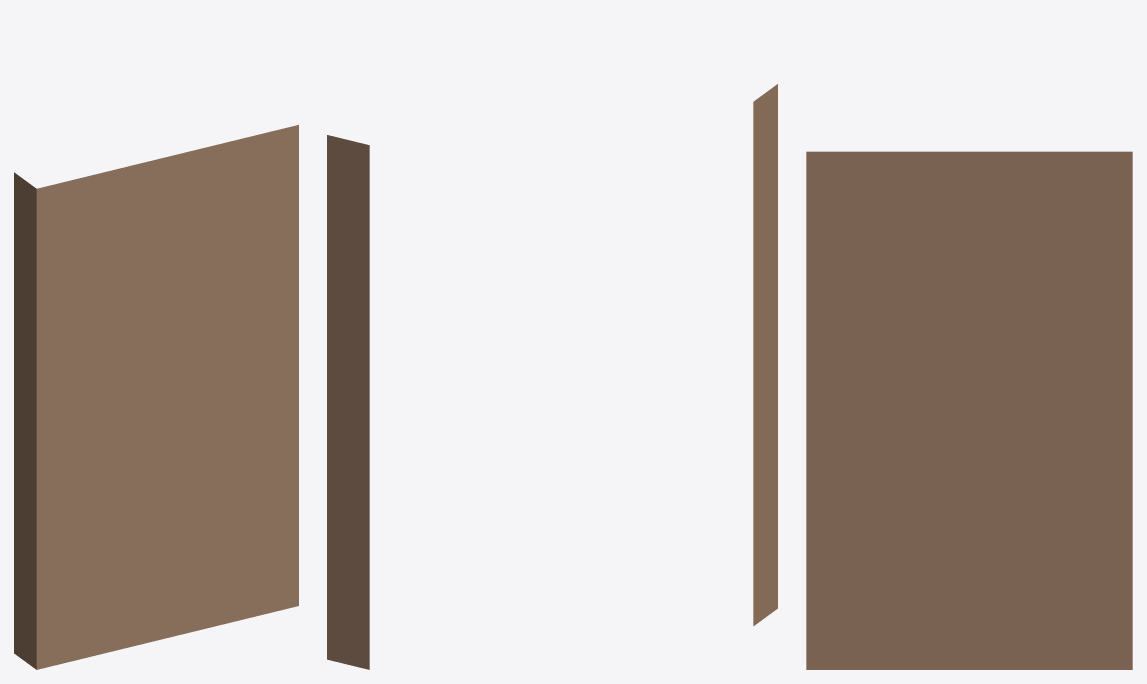
Rendered from env_block_brick_corner_column_center_half.glb.
The picture shows the model from 3 angles, left to right: view 1: azimuth 30°, elevation 25°; view 2: azimuth 150°, elevation 25°; view 3: azimuth 270°, elevation 25°; orthographic projection. The views are drawn at different scales.
Parts seen in each view (by area): view 1: geometry_0; view 2: geometry_0; view 3: geometry_0.
Boxes of the visible parts, x1,y1,x2,y2 form: geometry_0: (14,125,298,669); geometry_0: (327,84,777,669); geometry_0: (806,151,1132,669).
Bounding box in the file's own units: 1.14 × 2 × 1.14.
